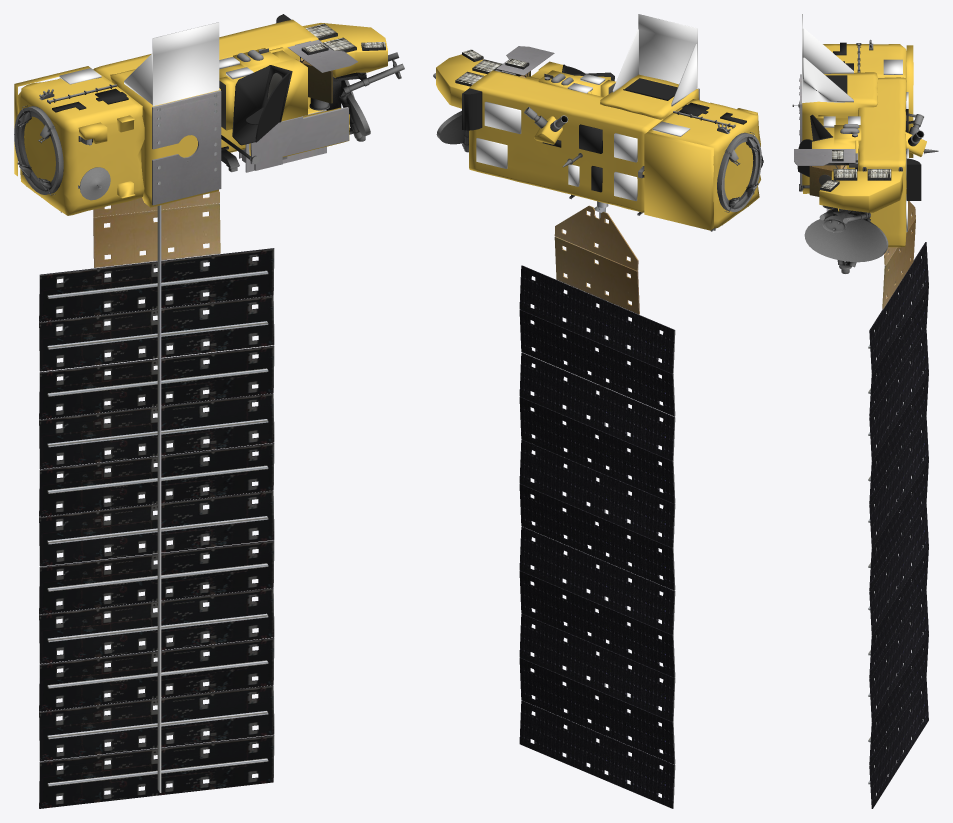
Rendered from Aura.glb.
The picture shows the model from 3 angles, left to right: view 1: azimuth 30°, elevation 25°; view 2: azimuth 150°, elevation 25°; view 3: azimuth 270°, elevation 25°; orthographic projection. The views are drawn at different scales.
Visible parts, largest first — view 1: panel, foil_gold, part_01, instruments, foil_silver, black_krinkle; view 2: shiny_panel, foil_gold, panel, foil_silver, instruments, black_krinkle, part_01; view 3: shiny_panel, foil_gold, panel, instruments, foil_silver, part_01, black_krinkle.
Boxes of the visible parts, x1,y1,x2,y2 form: panel: (39,191,274,808); foil_gold: (14,19,387,215); part_01: (152,23,385,205); instruments: (14,41,404,212); foil_silver: (59,22,253,106); black_krinkle: (52,14,292,145); shiny_panel: (519,266,674,808); foil_gold: (436,54,760,230); panel: (520,201,675,808); foil_silver: (476,14,697,201); instruments: (433,69,763,231); black_krinkle: (462,64,746,192); part_01: (455,46,699,100); shiny_panel: (870,242,928,808); foil_gold: (802,44,926,247); panel: (868,201,928,808); instruments: (792,39,938,273); foil_silver: (802,14,908,231); part_01: (794,74,891,211); black_krinkle: (797,42,921,200).
Size of the model in its own units: 8.73 by 18.74 by 3.43.
6 materials, 3 textured.
